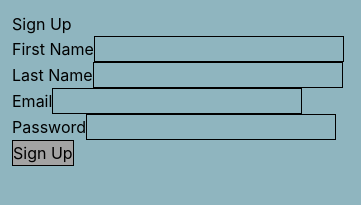
SignupView › shows error message when signup fails
Type "fail@test.com" into the field next to "Email". click: (177, 101)
box: [52,88,302,114]
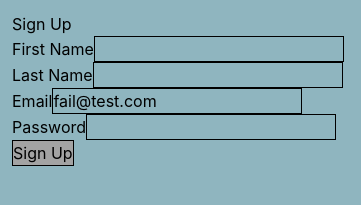
Type "123" into the password field. click: (211, 127)
box: [86,114,336,140]
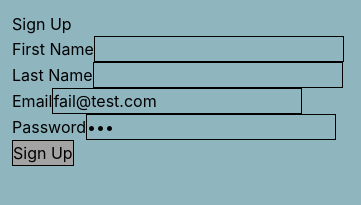
Submit the form, box [12,36,344,166]
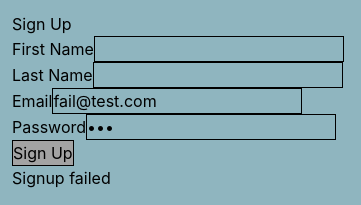
Expected: the text "Signup failed" is shown, [12,168,111,188]
